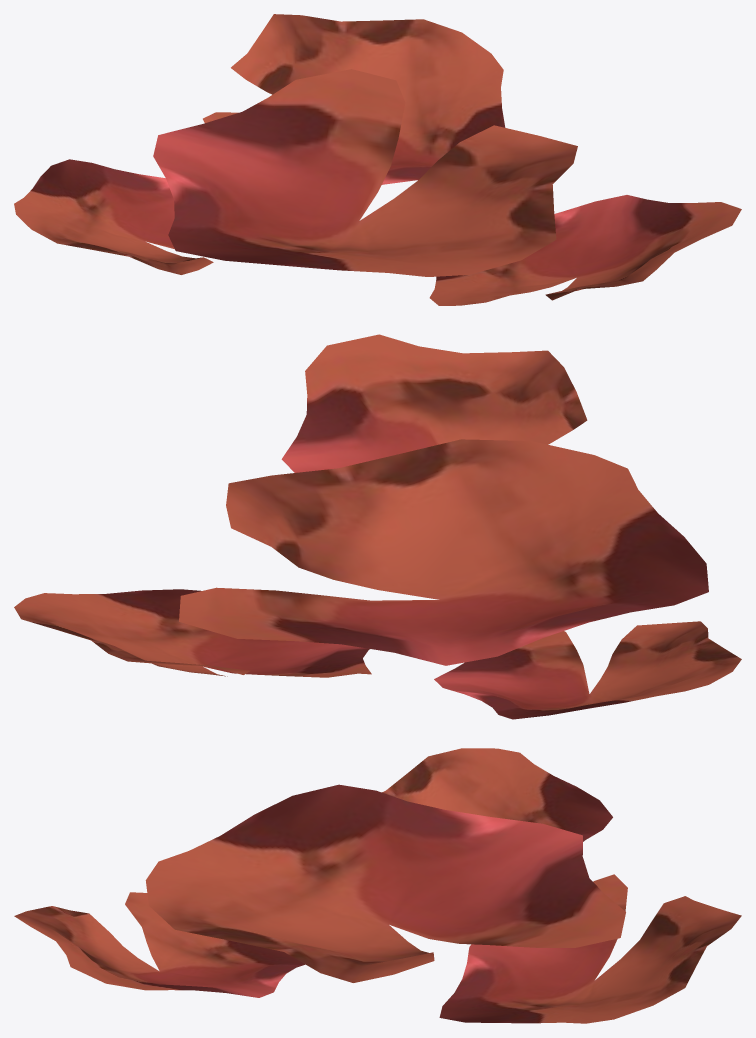
Rendered from softcoral-09.glb.
3 views of the same model, one above another, from view 1: azimuth 30°, elevation 25°; view 2: azimuth 150°, elevation 25°; view 3: azimuth 270°, elevation 25° (orthographic). The views are drawn at different scales.
Visible parts, largest first — view 1: coral17; view 2: coral17; view 3: coral17.
Part boxes in pixels (bbox=[...]): coral17: bbox=[14, 14, 741, 305]; coral17: bbox=[14, 334, 741, 719]; coral17: bbox=[14, 748, 741, 1023].
Size of the model in its own units: 1.97 by 0.2644 by 2.33.
1 material, 1 textured.
